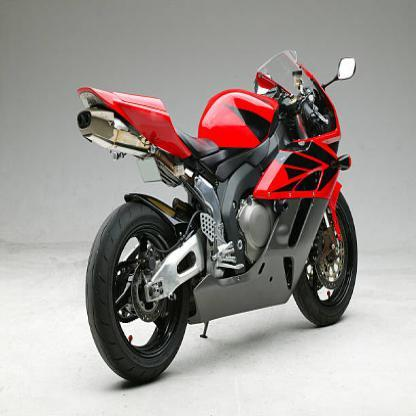Motorcycle: (71, 44, 364, 387)
